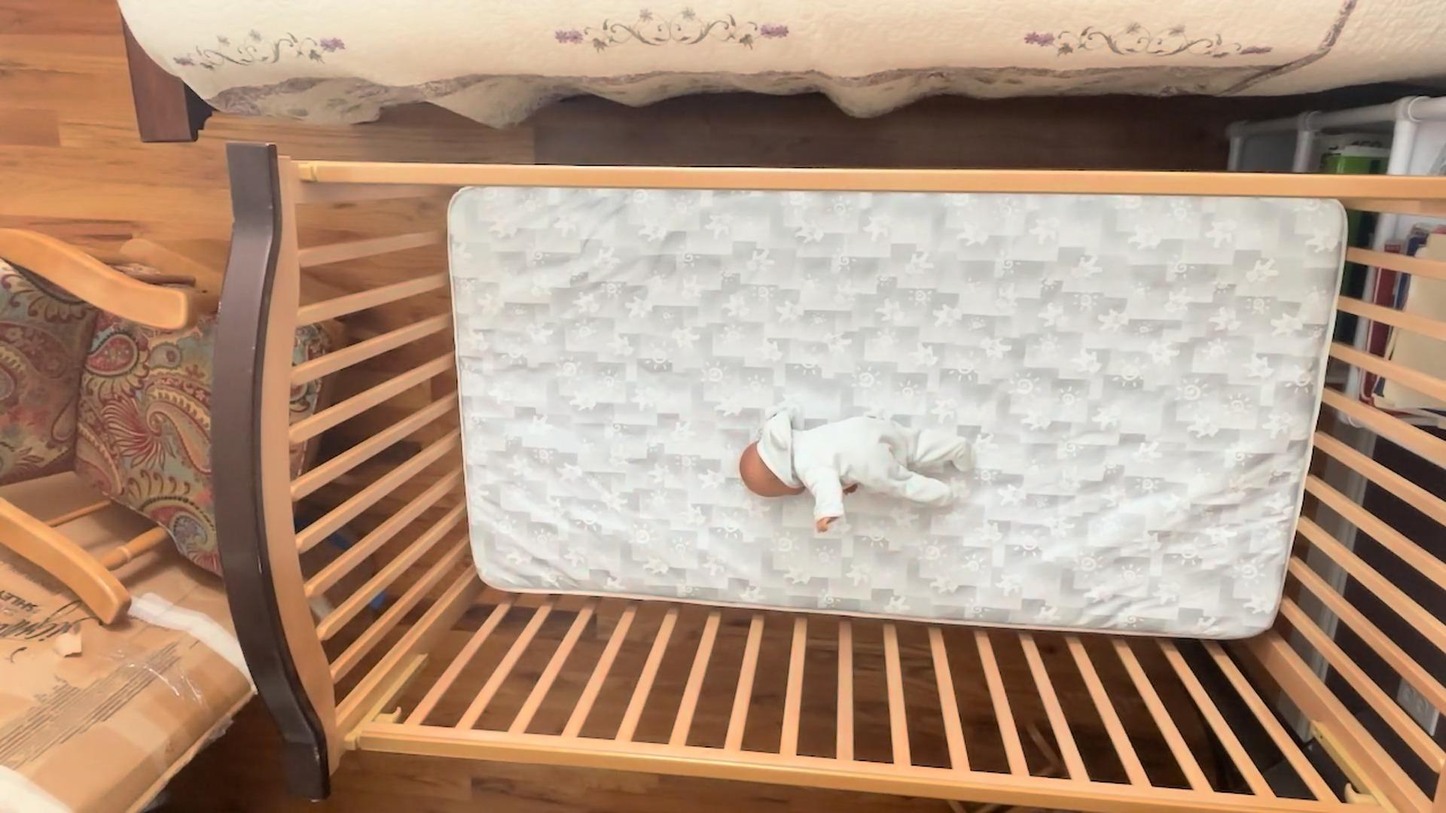baby: (734, 400, 972, 538)
